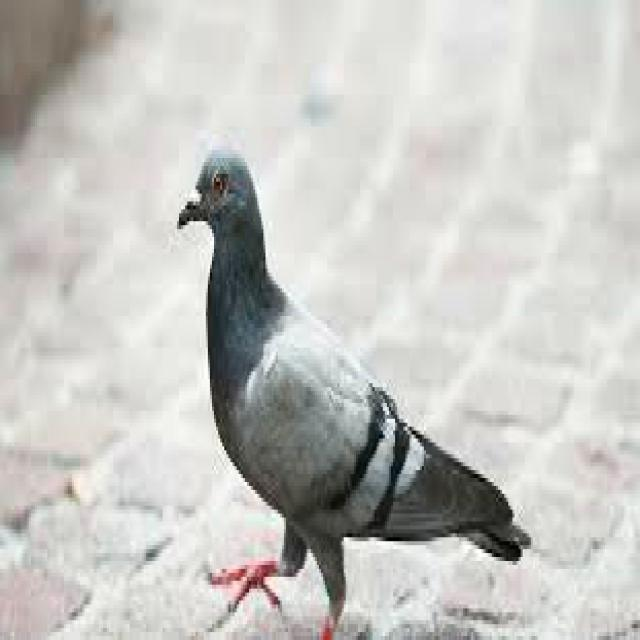pigeon: (179, 150, 531, 636)
